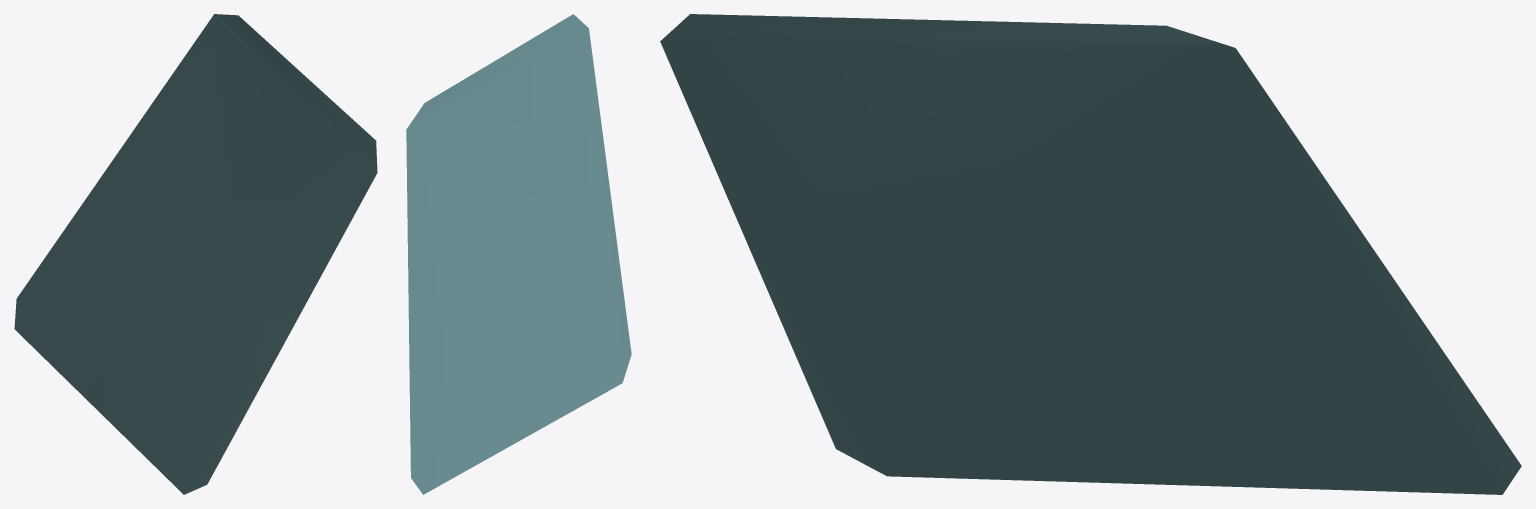
Rendered from Offroad_2_Window_Tessellate_RR.fbx.
3 renders of one model, left to right at view 1: azimuth 30°, elevation 25°; view 2: azimuth 150°, elevation 25°; view 3: azimuth 270°, elevation 25°, orthographic. The views are drawn at different scales.
Parts seen in each view (by area): view 1: Offroad_2_Window_Tessellate_RR; view 2: Offroad_2_Window_Tessellate_RR; view 3: Offroad_2_Window_Tessellate_RR.
Part boxes in pixels (left/top/right/bottom): Offroad_2_Window_Tessellate_RR: left=14, top=14, right=377, bottom=494; Offroad_2_Window_Tessellate_RR: left=406, top=14, right=631, bottom=494; Offroad_2_Window_Tessellate_RR: left=660, top=14, right=1521, bottom=494.
Bounding box in the file's own units: 11.13 × 26.91 × 37.63.
